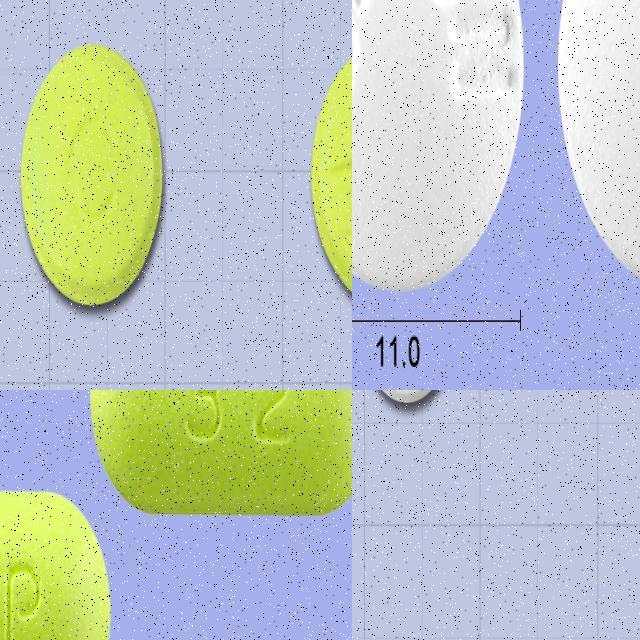C-Clarin: (17, 39, 168, 312), (307, 40, 352, 313)
Ciflonew: (352, 0, 528, 299), (554, 0, 640, 300)
Clatwo: (90, 390, 352, 515), (0, 479, 116, 640)
